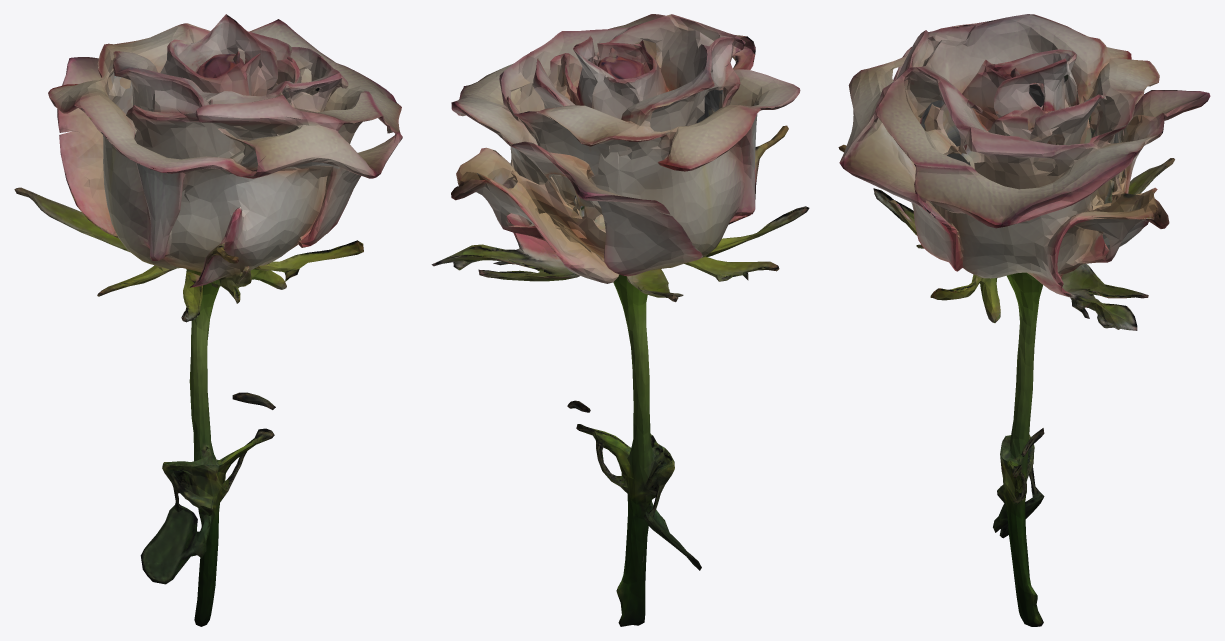
The picture shows the model from 3 angles, left to right: view 1: azimuth 30°, elevation 25°; view 2: azimuth 150°, elevation 25°; view 3: azimuth 270°, elevation 25°; orthographic projection.
Parts seen in each view (by area): view 1: world; view 2: world; view 3: world.
Boxes of the visible parts, <box> form: world: <box>14,14,402,626</box>; world: <box>431,14,809,626</box>; world: <box>838,14,1210,626</box>.
Bounding box in the file's own units: 0.528 × 0.9617 × 0.5532.
1 material, 1 textured.
